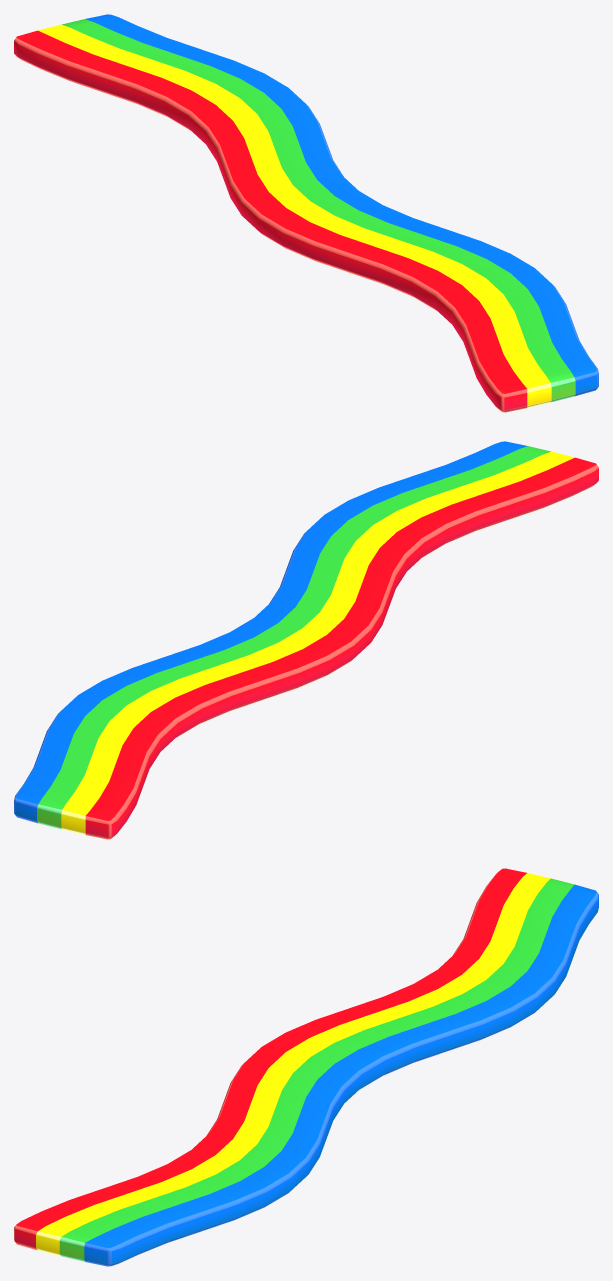
Rendered from Marmalade_02.glb.
The picture shows the model from 3 angles, top to bottom: view 1: azimuth 30°, elevation 25°; view 2: azimuth 150°, elevation 25°; view 3: azimuth 330°, elevation 25°; orthographic projection.
Parts seen in each view (by area): view 1: Marmalade_02; view 2: Marmalade_02; view 3: Marmalade_02.
Part boxes in pixels (x1,y1,x2,y2): Marmalade_02: (14, 14, 598, 412); Marmalade_02: (14, 441, 598, 839); Marmalade_02: (14, 868, 598, 1266).
Bounding box in the file's own units: 4.09 × 0.563 × 22.16.
Materials: 1 (1 with a texture image).
